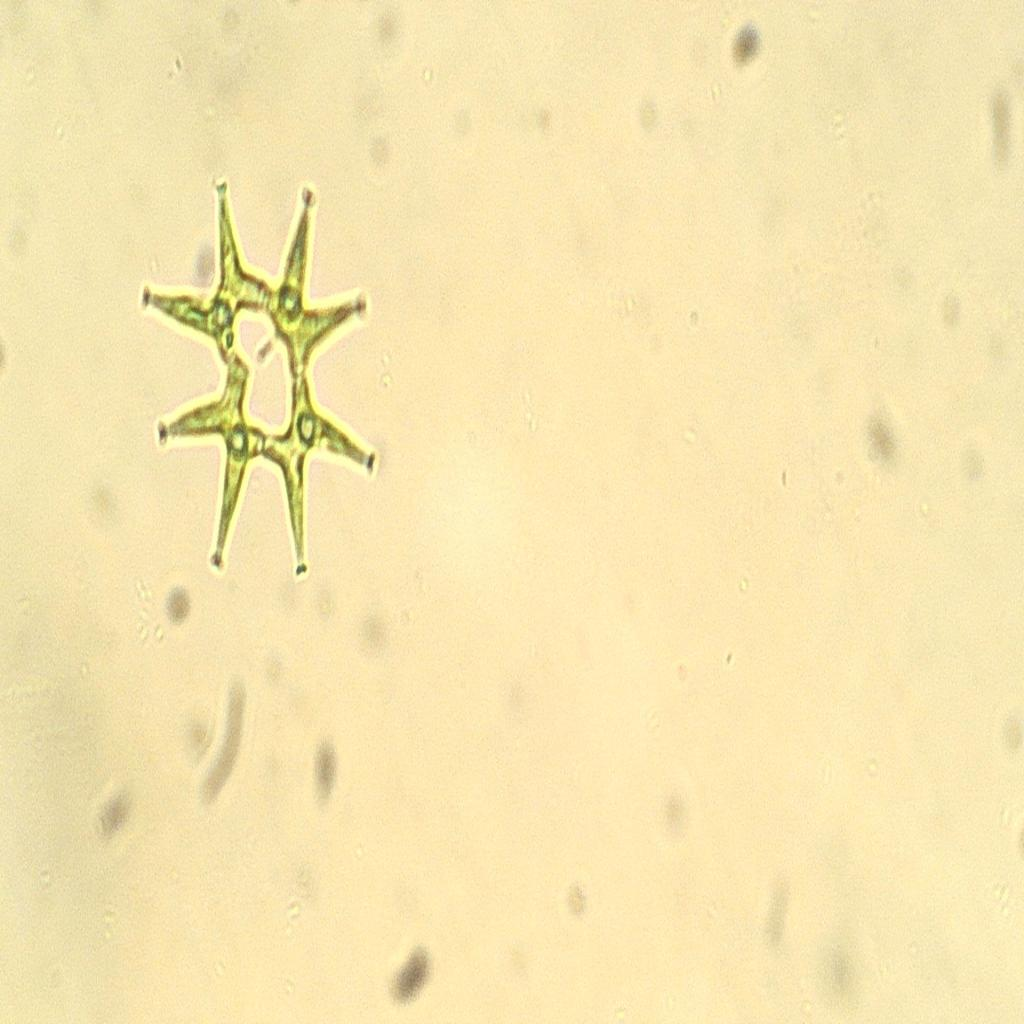Pediastrum_75FO: (139, 162, 388, 600)
